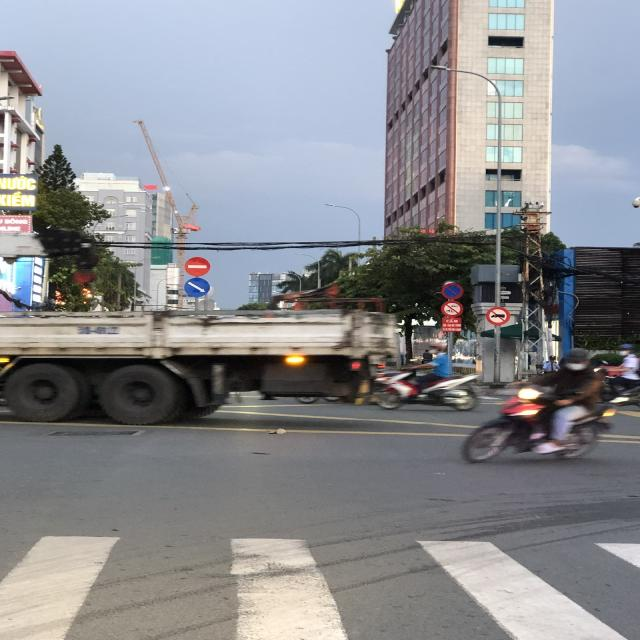Bien bao cam di nguoc chieu: (183, 255, 211, 277)
Bien bao cam do xe: (440, 281, 464, 301)
Bien bao cam xe so-mi ro-mooc: (486, 305, 511, 326)
Bien bao huong phai di vong chuong ngai vat: (184, 276, 212, 298)
